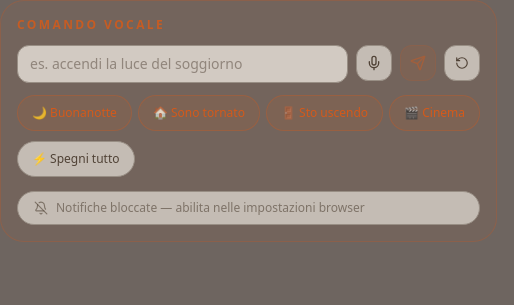
NLCommandBar — flusso voce › 9 — mostra errore accesso specifico su 401
The image size is (514, 305).
Click the button named "Avvia registrazione vocale": (374, 63) [356, 45, 392, 81]
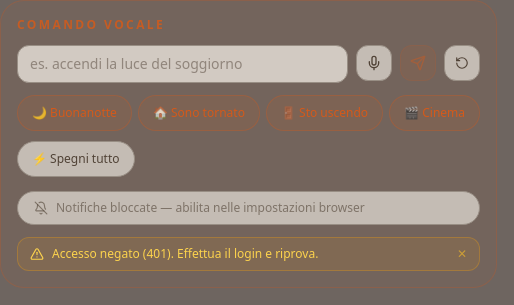
Now the text "Accesso negato (401). Effettua il login e riprova." is shown, box [52, 246, 318, 262]
